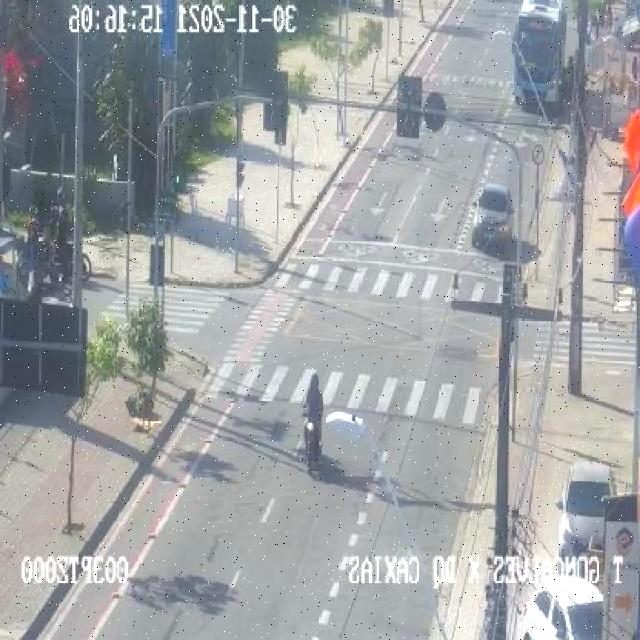Bus: (508, 1, 568, 111)
Car: (556, 461, 620, 561), (519, 574, 604, 640), (469, 182, 516, 248)
Cycle: (53, 237, 94, 283), (301, 398, 322, 472)
